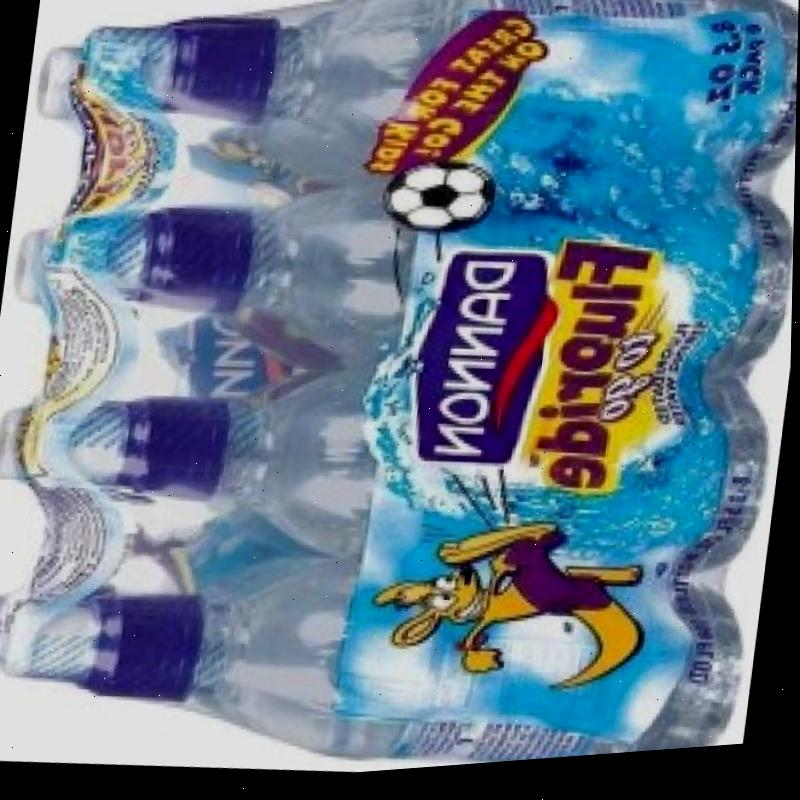botella: (29, 313, 782, 631), (56, 118, 797, 427), (0, 510, 758, 800), (71, 0, 800, 240), (30, 23, 380, 212), (8, 218, 63, 313), (0, 402, 50, 482), (0, 580, 8, 665)
